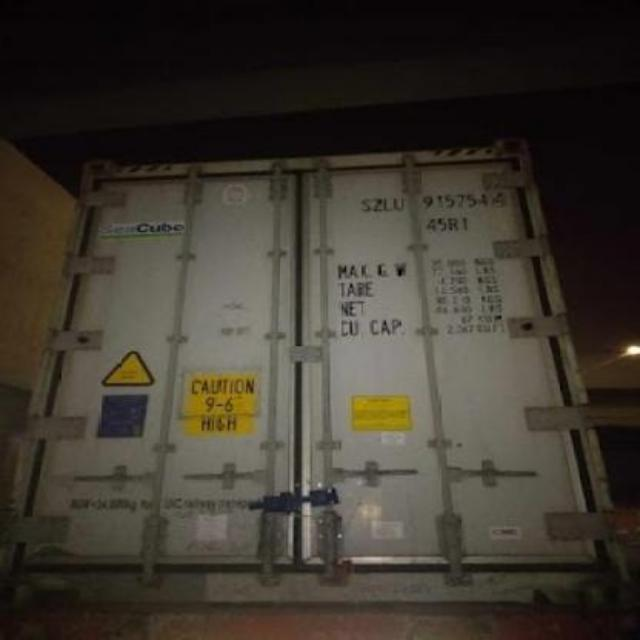1: (434, 190, 444, 214)
4: (490, 185, 506, 211), (476, 187, 488, 213)
5: (464, 182, 476, 215), (446, 183, 454, 213)
7: (454, 189, 466, 213)
9: (421, 189, 434, 213)
L: (380, 194, 392, 216)
S: (358, 194, 370, 216)
U: (392, 189, 406, 213)
Z: (368, 196, 380, 214)
